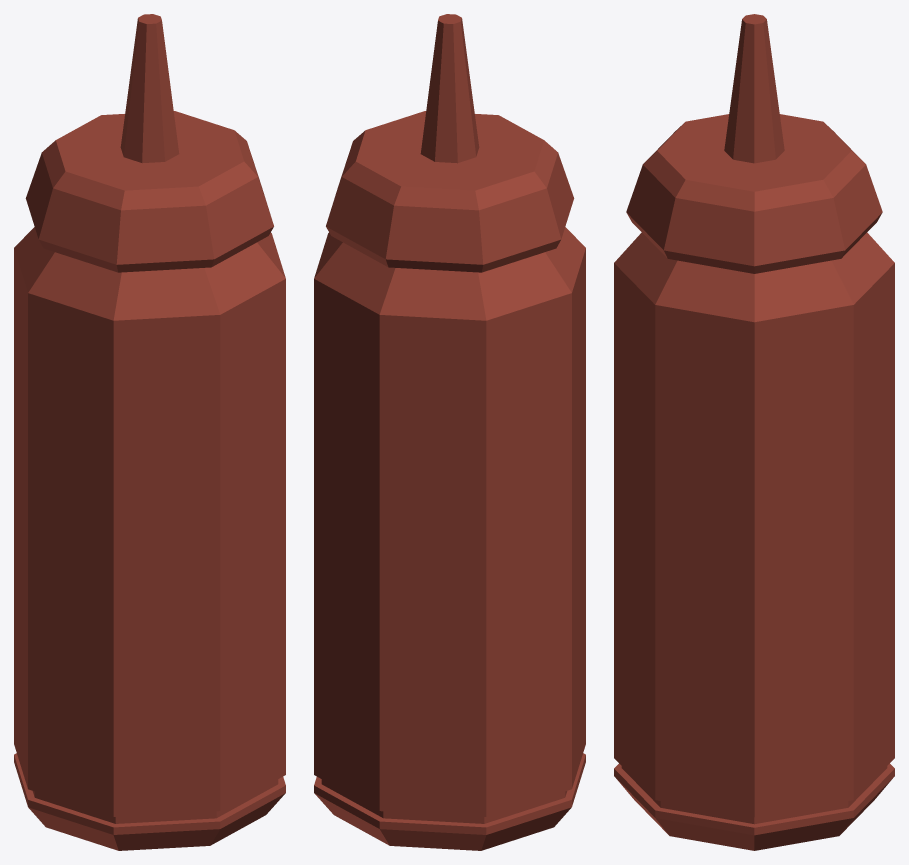
The model's file is food-KetchupBottle.glb.
The picture shows the model from 3 angles, left to right: view 1: azimuth 30°, elevation 25°; view 2: azimuth 150°, elevation 25°; view 3: azimuth 270°, elevation 25°; orthographic projection.
Parts seen in each view (by area): view 1: KetchupBottle; view 2: KetchupBottle; view 3: KetchupBottle.
Boxes of the visible parts, x1,y1,x2,y2 form: KetchupBottle: (14, 14, 285, 850); KetchupBottle: (314, 14, 585, 850); KetchupBottle: (614, 14, 894, 850).
Size of the model in its own units: 0.4996 by 1.53 by 0.4996.
